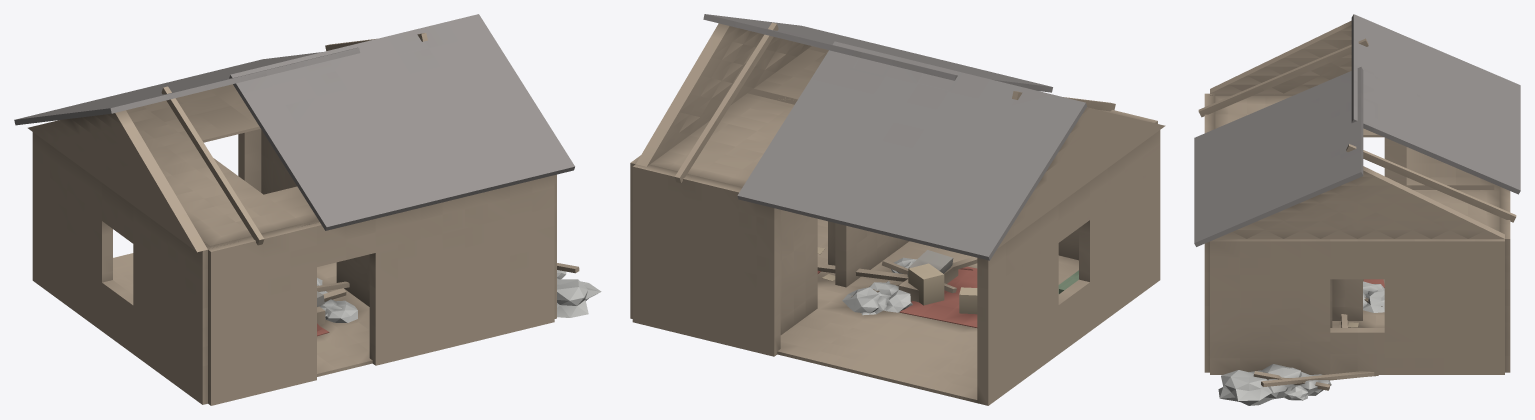
The model's file is casa_r14.glb.
3 views of the same model, side by side, from view 1: azimuth 30°, elevation 25°; view 2: azimuth 150°, elevation 25°; view 3: azimuth 270°, elevation 25° (orthographic). The views are drawn at different scales.
Visible parts, largest first — view 1: telhado, ext0_0, ext0_3, forro, telhado_oitao0, chao, int_0, telhado_vigas, entulho_fora, ext0_2, entulho; view 2: telhado, ext0_3, ext0_2, chao, forro, telhado_oitao2, int_0, telhado_oitao0, entulho, telhado_vigas, sala_tapete, sala_bag_caixa1 (+5 smaller); view 3: ext0_1, telhado, telhado_oitao2, forro, telhado_oitao0, entulho_fora, telhado_vigas, int_0, ext0_2, ext0_0, ext0_3, entulho (+1 smaller).
Part boxes in pixels (x1,y1,x2,y2): telhado: [14, 14, 574, 230]; ext0_0: [206, 175, 554, 405]; ext0_3: [32, 132, 210, 404]; forro: [48, 84, 319, 248]; telhado_oitao0: [28, 110, 207, 252]; chao: [113, 253, 372, 376]; int_0: [261, 130, 369, 306]; telhado_vigas: [161, 33, 427, 245]; entulho_fora: [557, 263, 601, 317]; ext0_2: [238, 129, 261, 192]; entulho: [317, 278, 357, 322]; telhado: [703, 14, 1086, 260]; ext0_3: [977, 130, 1160, 405]; ext0_2: [632, 164, 780, 356]; chao: [777, 219, 1078, 402]; forro: [650, 46, 828, 186]; telhado_oitao2: [636, 23, 811, 166]; int_0: [780, 210, 909, 334]; telhado_oitao0: [997, 107, 1165, 248]; entulho: [817, 256, 977, 315]; telhado_vigas: [675, 22, 1115, 183]; sala_tapete: [900, 266, 977, 327]; sala_bag_caixa1: [908, 263, 944, 305]; ext0_1: [1210, 239, 1504, 374]; telhado: [1194, 14, 1520, 246]; telhado_oitao2: [1216, 166, 1504, 238]; forro: [1215, 94, 1499, 231]; telhado_oitao0: [1210, 20, 1351, 93]; entulho_fora: [1218, 364, 1374, 405]; telhado_vigas: [1198, 38, 1516, 222]; int_0: [1332, 185, 1494, 320]; ext0_2: [1499, 187, 1510, 372]; ext0_0: [1204, 93, 1215, 372]; ext0_3: [1210, 93, 1406, 185]; entulho: [1340, 281, 1384, 327].
Size of what is drawn, in the model's own units: 8.66 by 4.99 by 6.64.
